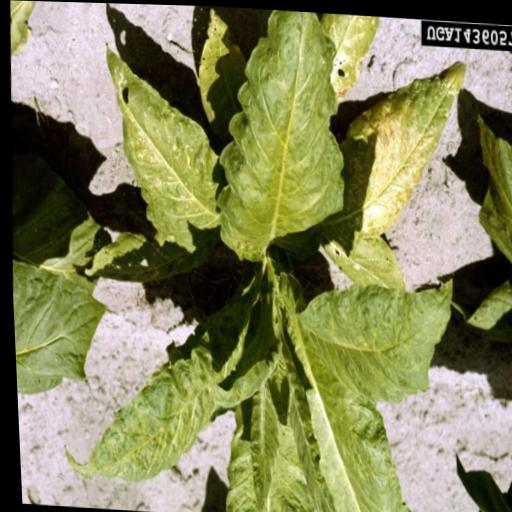Mosaic Virus: (48, 276, 262, 490), (203, 5, 353, 262), (101, 67, 221, 273), (297, 266, 458, 390)
